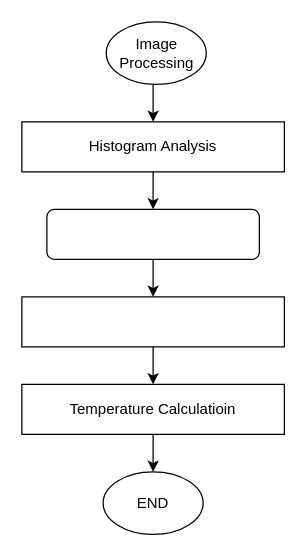
The diagram is 306 pixels wide and 556 high, and some of its shapes have lost their labels. Here are the shapes that lost their labels. From the top down, the box of each, then its label:
(46, 208, 259, 259): Select Value image of HSV
(21, 296, 284, 347): Masking
